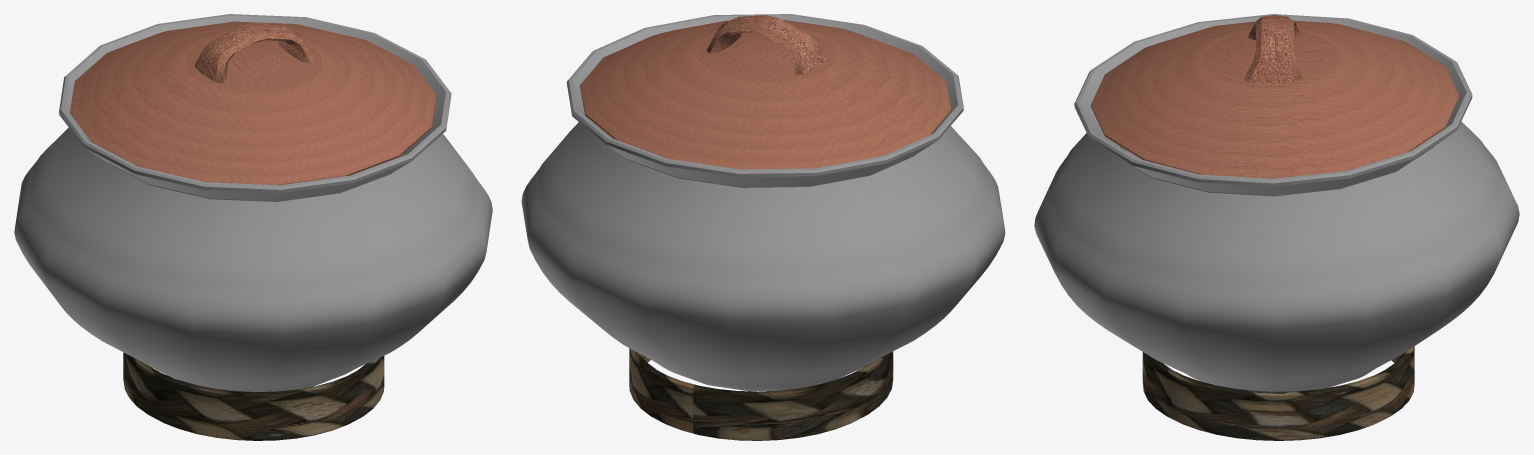
The model's file is _paglutuanNaMayTakip.FBX.
The picture shows the model from 3 angles, left to right: view 1: azimuth 30°, elevation 25°; view 2: azimuth 150°, elevation 25°; view 3: azimuth 270°, elevation 25°; orthographic projection.
Parts seen in each view (by area): view 1: Line001, Torus001, Cylinder001; view 2: Line001, Torus001, Cylinder001; view 3: Line001, Torus001, Cylinder001.
Part boxes in pixels (x1=…): Line001: x1=14, y1=14, x2=492, y2=391; Torus001: x1=69, y1=21, x2=436, y2=185; Cylinder001: x1=123, y1=352, x2=384, y2=440; Line001: x1=521, y1=14, x2=1005, y2=391; Torus001: x1=580, y1=15, x2=951, y2=169; Cylinder001: x1=629, y1=348, x2=893, y2=440; Line001: x1=1034, y1=14, x2=1519, y2=391; Torus001: x1=1090, y1=15, x2=1459, y2=178; Cylinder001: x1=1142, y1=346, x2=1414, y2=440.
Size of the model in its own units: 59 by 48.63 by 58.98.
